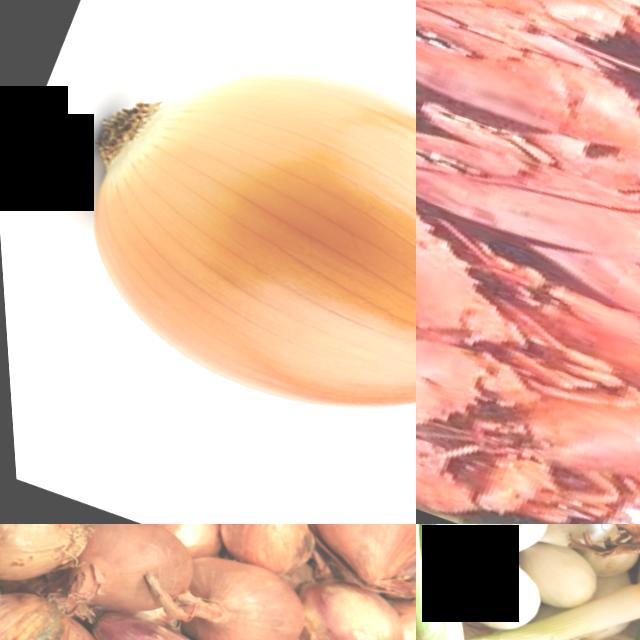onion: (0, 0, 416, 524), (51, 524, 208, 640), (158, 540, 323, 640), (288, 524, 416, 616), (205, 524, 336, 599), (282, 577, 416, 640), (0, 524, 105, 602)
